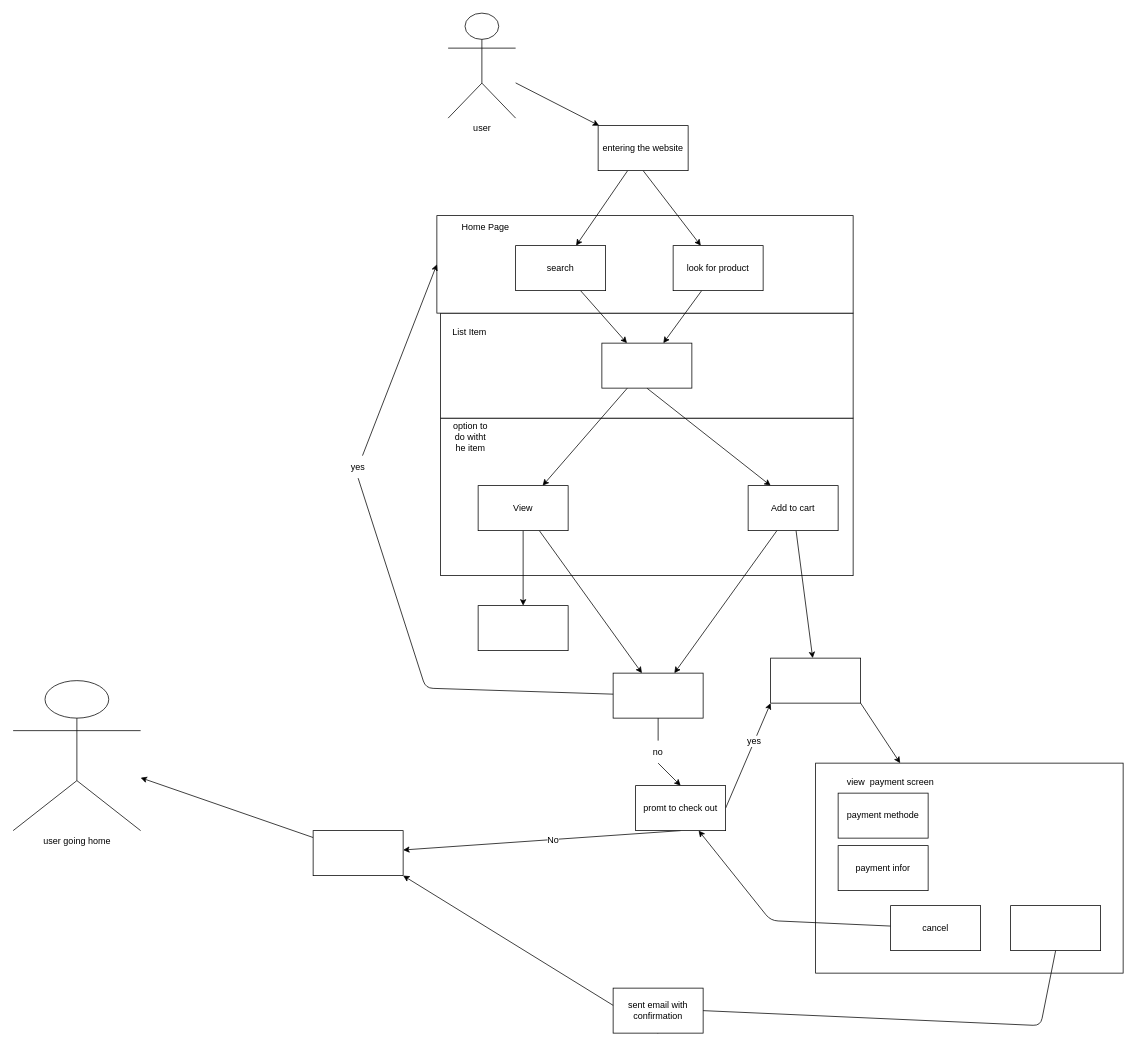
Some shapes in this 1136 by 1052 pixel diagram are drawn without their labels. Each missing label, with the centre of its shape:
"continue shopping" goes at point (657, 695).
"exit" goes at point (357, 853).
"pay" goes at point (1055, 928).
"product page" goes at point (522, 628).
"select the product" goes at point (646, 365).
"view cart page" goes at point (815, 680).
